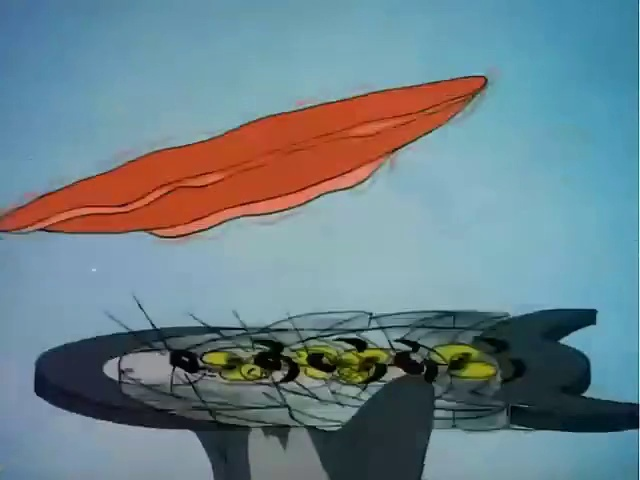tom: (11, 282, 632, 450)
